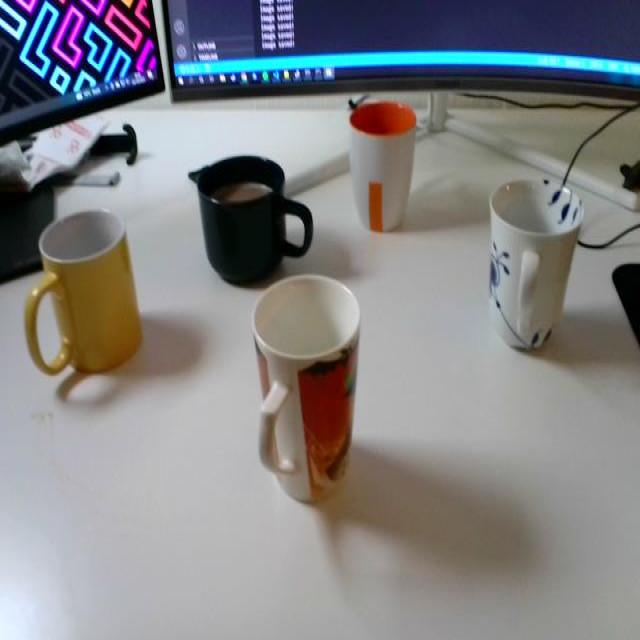cup: (244, 265, 368, 505), (22, 183, 156, 397), (476, 162, 604, 353), (191, 147, 311, 270), (346, 99, 426, 238)
